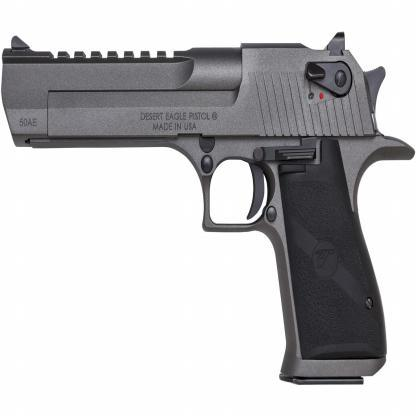Pistol: (2, 29, 415, 386)
